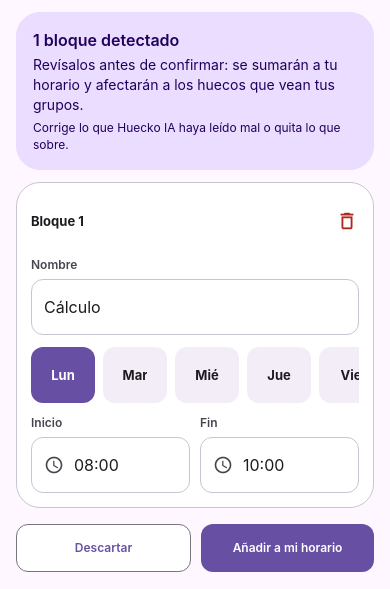
Test case: si se quitan todos, no deja guardar y lo explica
Click the button named "Quitar bloque 1": (347, 221) [323, 197, 371, 245]
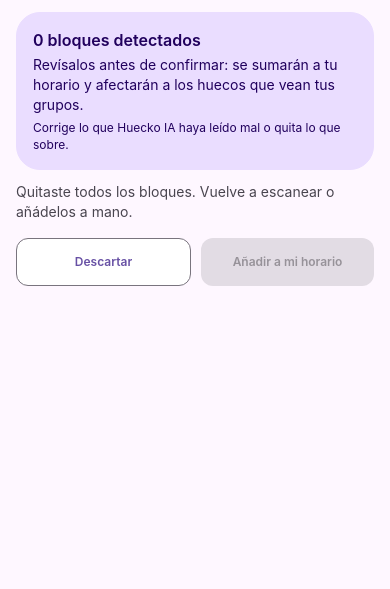
Now the text "Quitaste todos los bloques. Vuelve a escanear o añádelos a mano." is shown, box [16, 182, 374, 222]
Now the button "Añadir a mi horario" is disabled, box [201, 238, 374, 286]
